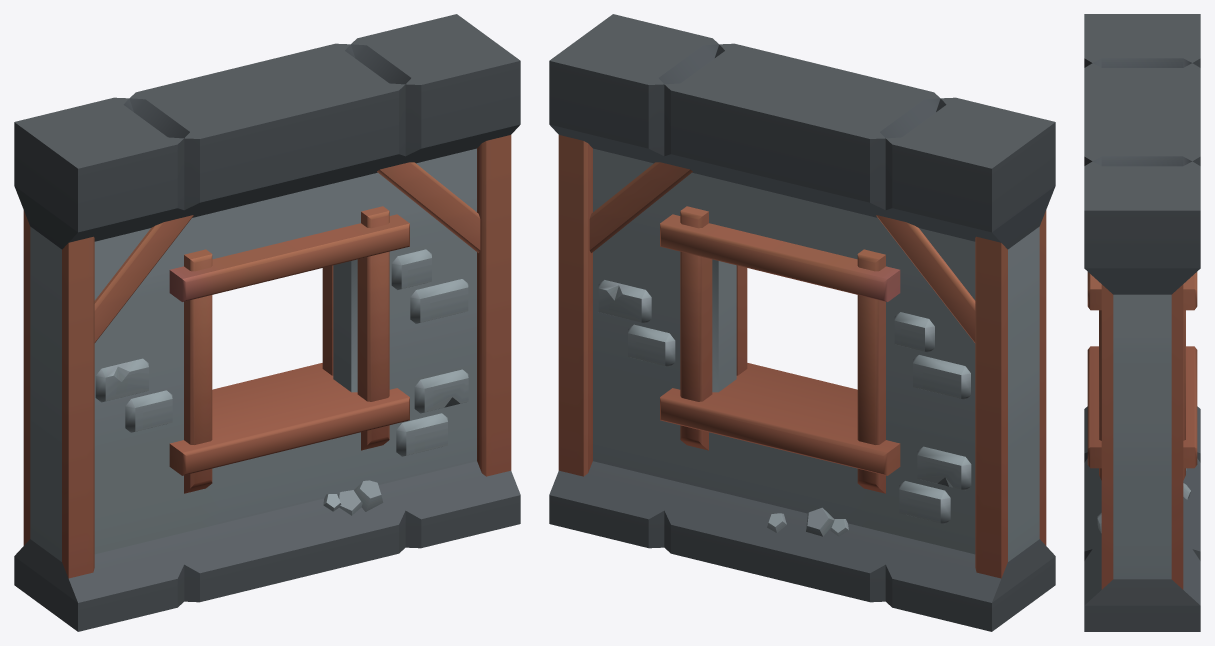
The model's file is window.glb.
3 views of the same model, side by side, from view 1: azimuth 30°, elevation 25°; view 2: azimuth 150°, elevation 25°; view 3: azimuth 270°, elevation 25° (orthographic). The views are drawn at different scales.
Parts seen in each view (by area): view 1: wall_window_open_scaffold; view 2: wall_window_open_scaffold; view 3: wall_window_open_scaffold.
Part boxes in pixels (x1,y1,x2,y2): wall_window_open_scaffold: (14, 14, 520, 631); wall_window_open_scaffold: (549, 14, 1055, 631); wall_window_open_scaffold: (1084, 14, 1200, 631).
Size of the model in its own units: 4 by 4 by 1.
Materials: 1 (1 with a texture image).
